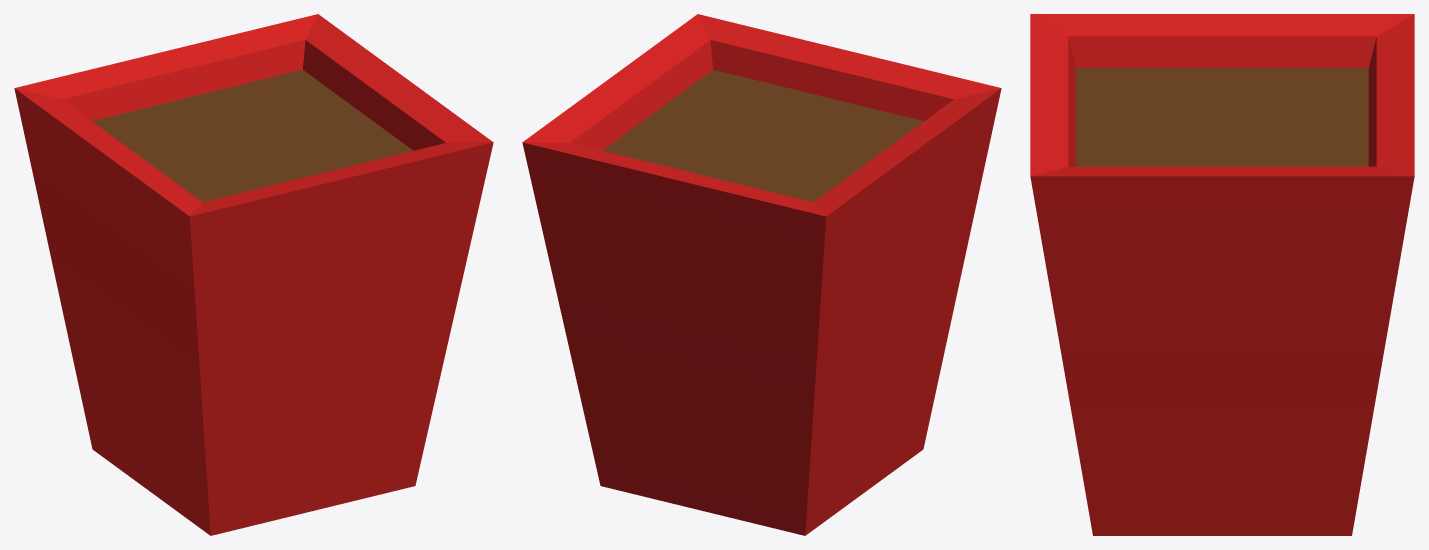
Rendered from PlantPot_4_F.fbx.
3 views of the same model, side by side, from view 1: azimuth 30°, elevation 25°; view 2: azimuth 150°, elevation 25°; view 3: azimuth 270°, elevation 25° (orthographic). The views are drawn at different scales.
Visible parts, largest first — view 1: PlantPot_4_F; view 2: PlantPot_4_F; view 3: PlantPot_4_F.
Boxes of the visible parts, <box> form: PlantPot_4_F: <box>14,14,493,535</box>; PlantPot_4_F: <box>522,14,1001,535</box>; PlantPot_4_F: <box>1030,14,1414,535</box>.
Size of the model in its own units: 21.63 by 23.98 by 21.63.
